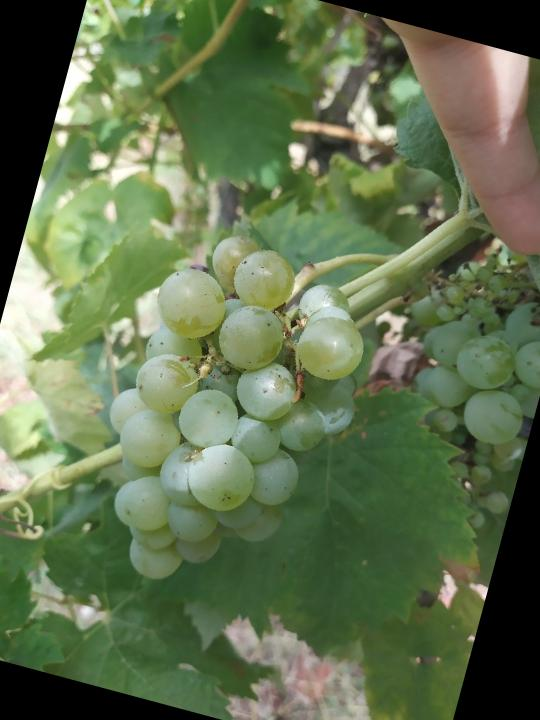grape: (67, 211, 397, 623)
